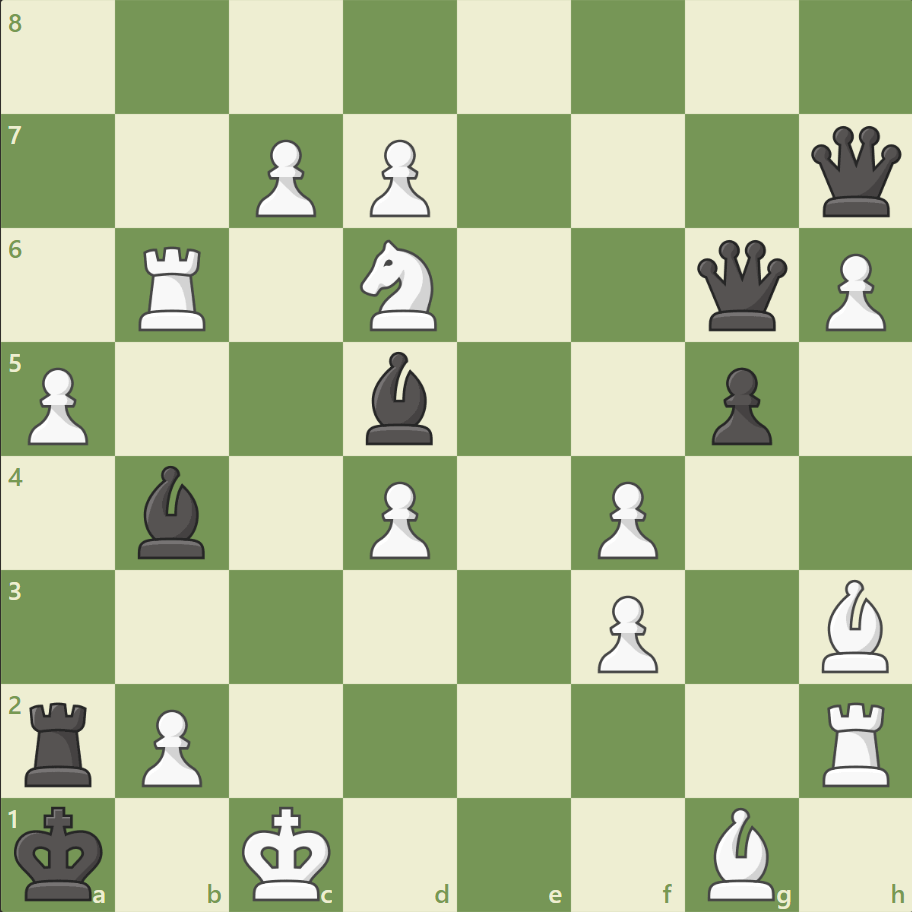B: (698, 801, 782, 904), (812, 574, 896, 676)
K: (238, 798, 338, 906)
N: (351, 234, 449, 337)
P: (247, 132, 322, 223), (20, 359, 95, 450), (133, 700, 208, 791), (361, 132, 435, 223), (815, 246, 889, 337), (361, 473, 435, 564), (588, 473, 662, 564), (588, 586, 662, 677)
R: (814, 693, 897, 790), (133, 239, 215, 336)
b: (131, 460, 215, 563), (358, 347, 442, 449)
k: (11, 798, 111, 906)
p: (701, 359, 776, 450)
q: (805, 122, 904, 222), (691, 236, 790, 335)
r: (19, 693, 102, 790)
